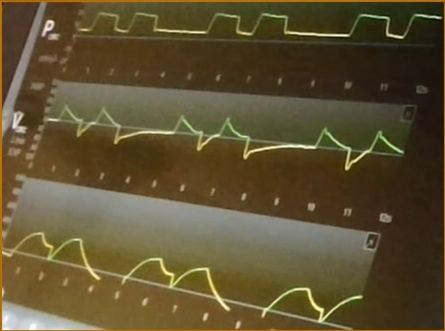Double_Triggering Flow: (47, 101, 401, 173)
Double_Triggering Volume: (5, 227, 361, 325)
